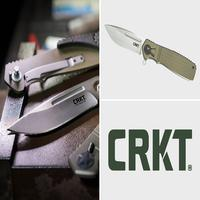knife: (101, 19, 199, 83), (4, 79, 105, 139)
